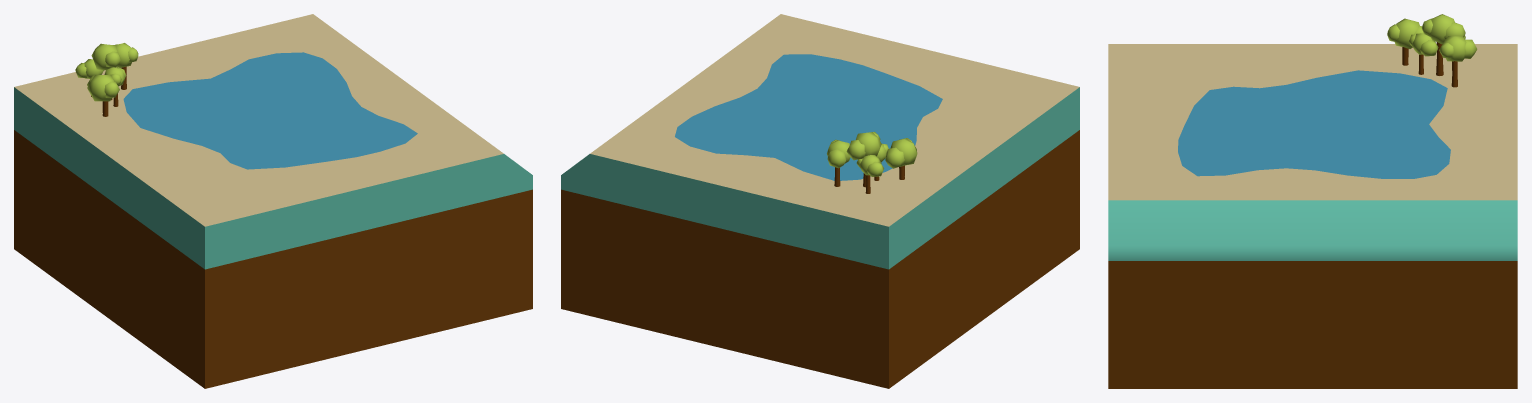
Rendered from Oasis01.fbx.
The picture shows the model from 3 angles, left to right: view 1: azimuth 30°, elevation 25°; view 2: azimuth 150°, elevation 25°; view 3: azimuth 270°, elevation 25°; orthographic projection. The views are drawn at different scales.
Parts seen in each view (by area): view 1: Oasis01; view 2: Oasis01; view 3: Oasis01.
Boxes of the visible parts, x1,y1,x2,y2 form: Oasis01: (14,14,532,388); Oasis01: (561,14,1079,388); Oasis01: (1108,14,1517,388).
Bounding box in the file's own units: 96.18 × 60.71 × 97.03.
1 material, 1 textured.
